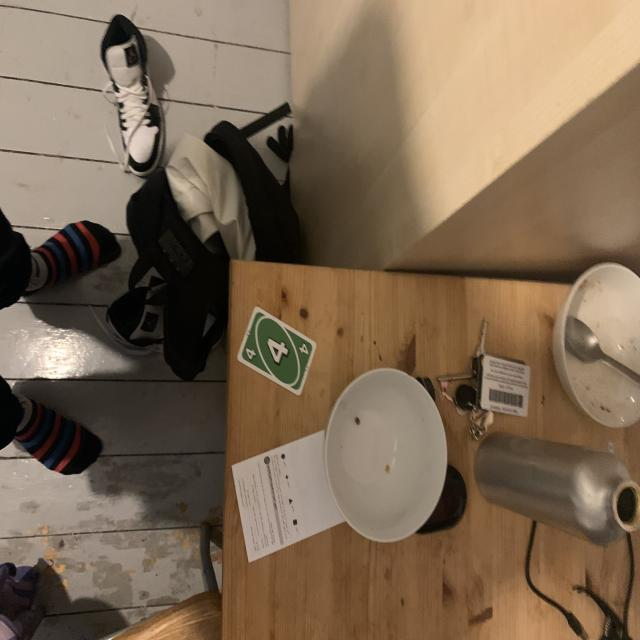lgreen-4: (244, 346, 260, 362)
